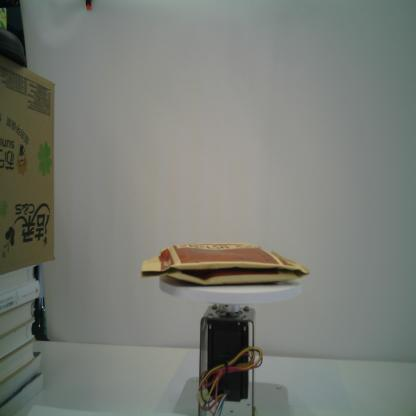Dried Food: (140, 243, 310, 286)
